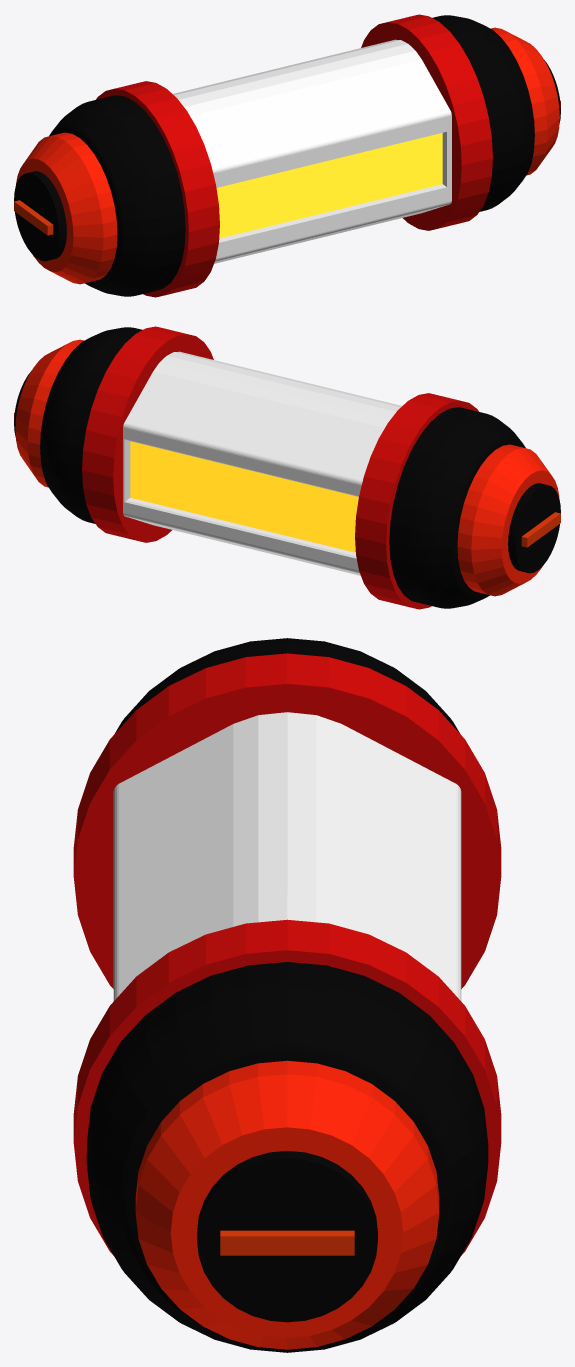
File: Bomb.fbx
3 renders of one model, top to bottom at view 1: azimuth 30°, elevation 25°; view 2: azimuth 150°, elevation 25°; view 3: azimuth 270°, elevation 25°, orthographic. The views are drawn at different scales.
Parts seen in each view (by area): view 1: Cylinder.005, Cylinder.007, Cylinder.006, Cylinder.008, Cylinder.009, Cube; view 2: Cylinder.005, Cylinder.007, Cylinder.006, Cylinder.008, Cylinder.009, Cube; view 3: Cylinder.005, Cylinder.006, Cylinder.007, Cylinder.008, Cylinder.009, Cube.
Part boxes in pixels (x1=…): Cylinder.005: x1=173, y1=39, x2=451, y2=263; Cylinder.007: x1=49, y1=15, x2=534, y2=296; Cylinder.006: x1=96, y1=14, x2=492, y2=297; Cylinder.008: x1=16, y1=27, x2=559, y2=284; Cylinder.009: x1=14, y1=60, x2=560, y2=261; Cube: x1=14, y1=100, x2=560, y2=235; Cylinder.005: x1=123, y1=351, x2=401, y2=575; Cylinder.007: x1=40, y1=327, x2=525, y2=608; Cylinder.006: x1=82, y1=326, x2=478, y2=609; Cylinder.008: x1=15, y1=339, x2=559, y2=596; Cylinder.009: x1=14, y1=371, x2=560, y2=573; Cube: x1=14, y1=412, x2=560, y2=547; Cylinder.005: x1=113, y1=712, x2=461, y2=1000; Cylinder.006: x1=73, y1=653, x2=501, y2=1255; Cylinder.007: x1=86, y1=638, x2=488, y2=1352; Cylinder.008: x1=135, y1=1060, x2=439, y2=1349; Cylinder.009: x1=197, y1=1151, x2=377, y2=1322; Cube: x1=220, y1=1230, x2=354, y2=1255.
Size of the model in its own units: 590 by 213 by 213.
